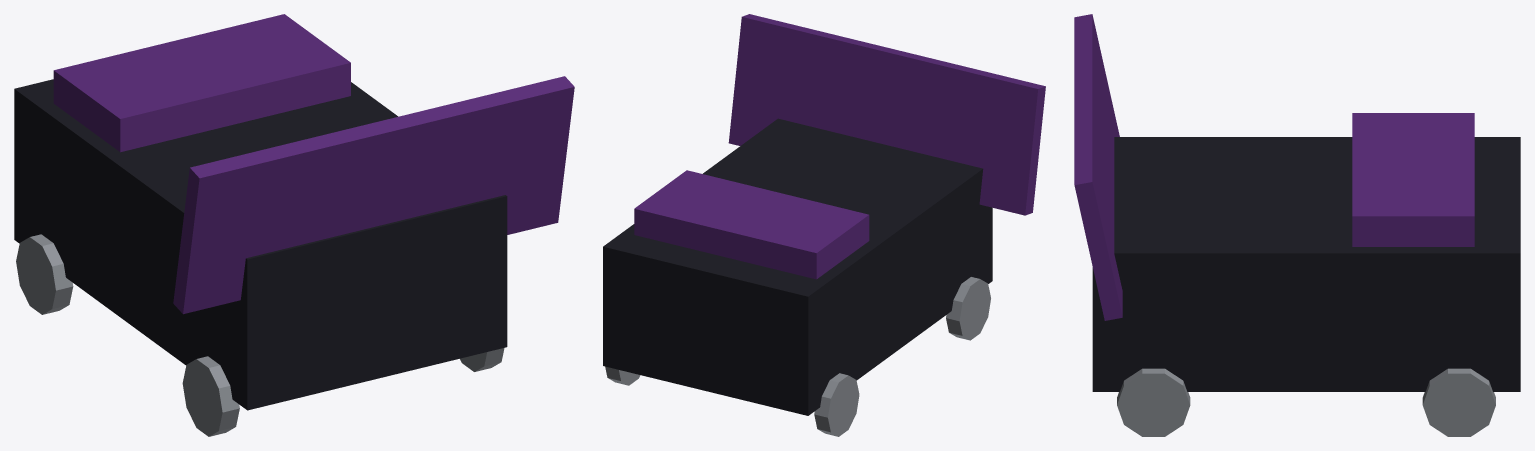
File: ghost_cart.glb
The picture shows the model from 3 angles, left to right: view 1: azimuth 30°, elevation 25°; view 2: azimuth 150°, elevation 25°; view 3: azimuth 270°, elevation 25°; orthographic projection. The views are drawn at different scales.
Visible parts, largest first — view 1: tub_ghost_dark, front_ghost_purple, bench_ghost_purple, wheels_fair_steel (×3); view 2: tub_ghost_dark, front_ghost_purple, bench_ghost_purple, wheels_fair_steel (×2); view 3: tub_ghost_dark, bench_ghost_purple, front_ghost_purple, wheels_fair_steel (×2).
Boxes of the visible parts, left/top/right/bottom form: tub_ghost_dark: left=14, top=79, right=507, bottom=410; front_ghost_purple: left=173, top=76, right=574, bottom=314; bench_ghost_purple: left=53, top=14, right=350, bottom=152; wheels_fair_steel (×3): left=16, top=234, right=504, bottom=436; tub_ghost_dark: left=603, top=118, right=992, bottom=415; front_ghost_purple: left=728, top=14, right=1045, bottom=215; bench_ghost_purple: left=634, top=170, right=869, bottom=279; wheels_fair_steel (×2): left=814, top=277, right=990, bottom=436; tub_ghost_dark: left=1092, top=137, right=1520, bottom=391; bench_ghost_purple: left=1352, top=113, right=1474, bottom=246; front_ghost_purple: left=1074, top=14, right=1122, bottom=320; wheels_fair_steel (×2): left=1117, top=368, right=1495, bottom=436.
Bounding box in the file's own units: 1.3 × 0.9951 × 1.46.
